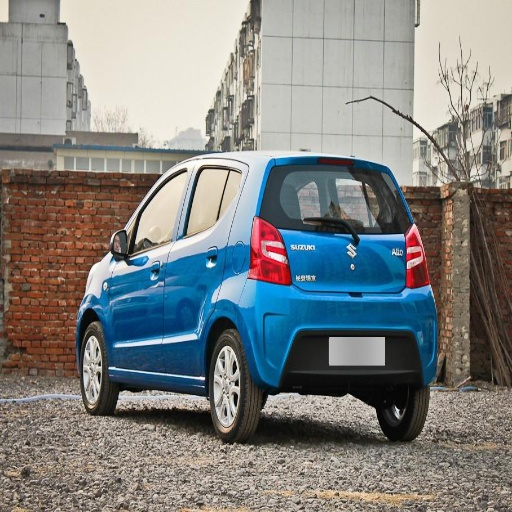back_bumper: (240, 281, 437, 387)
back_glass: (262, 168, 400, 231)
back_left_door: (164, 164, 231, 375)
trunk: (283, 231, 409, 300)
